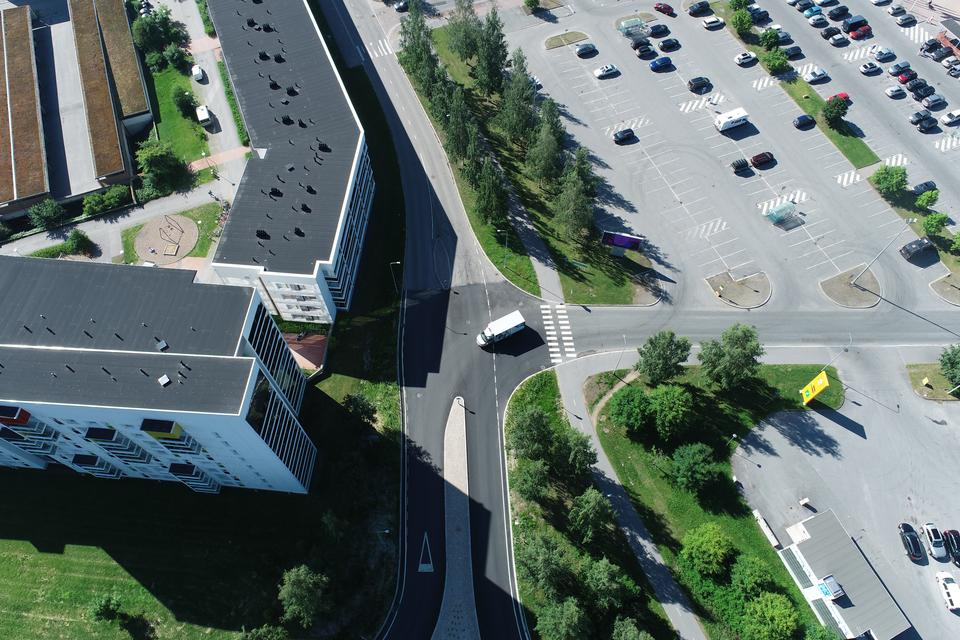intersection: (378, 273, 620, 418)
